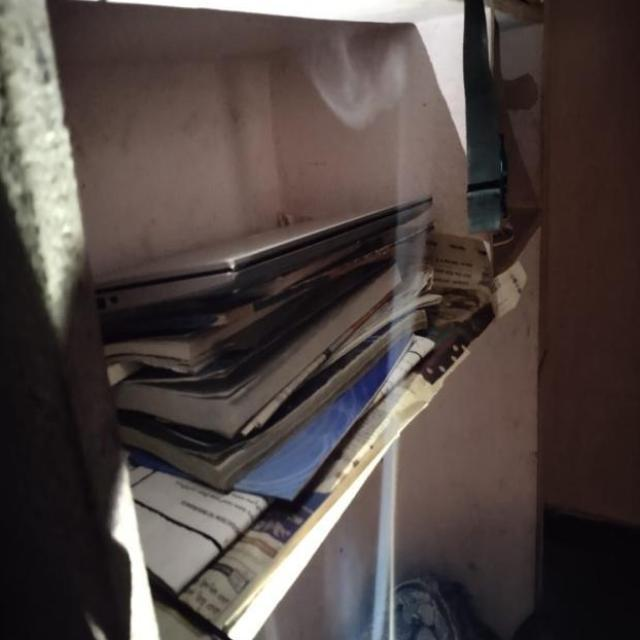fire: (318, 43, 441, 639)
